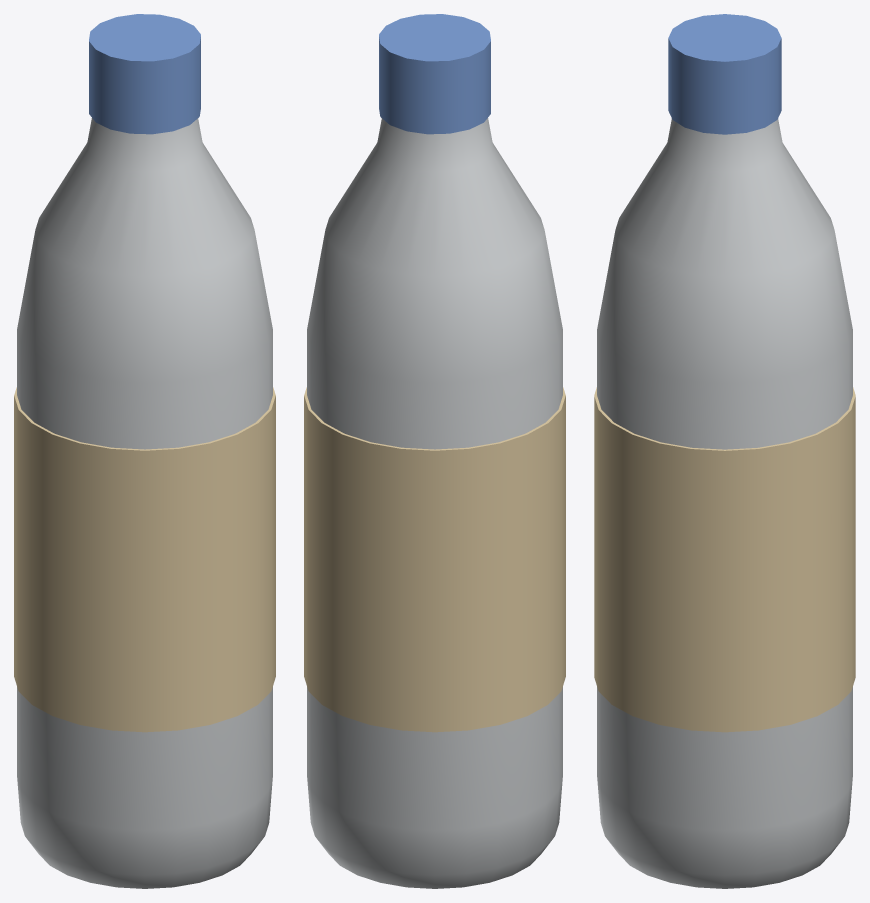
The model's file is SM_AlmondWater.fbx.
The picture shows the model from 3 angles, left to right: view 1: azimuth 30°, elevation 25°; view 2: azimuth 150°, elevation 25°; view 3: azimuth 270°, elevation 25°; orthographic projection.
Parts seen in each view (by area): view 1: SM_AlmondWater; view 2: SM_AlmondWater; view 3: SM_AlmondWater.
Boxes of the visible parts, <box> form: SM_AlmondWater: <box>14,14,275,888</box>; SM_AlmondWater: <box>304,14,565,888</box>; SM_AlmondWater: <box>594,14,855,888</box>.
Bounding box in the file's own units: 7.16 × 24.3 × 7.16.
